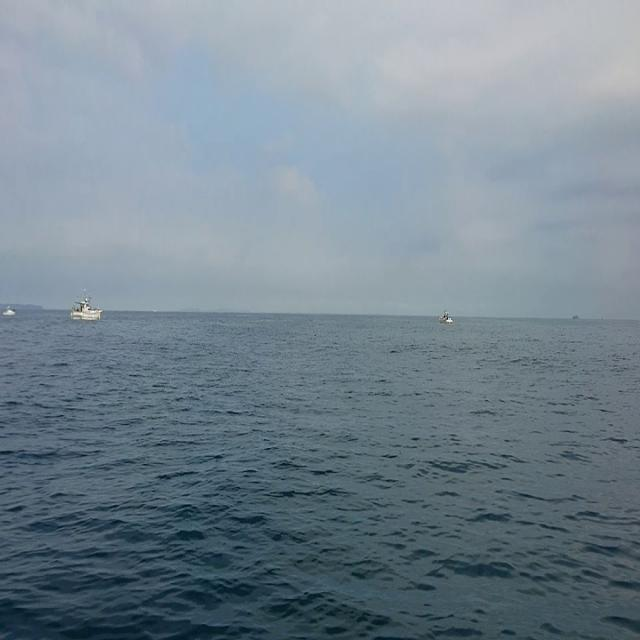houseboat: (67, 284, 106, 336)
